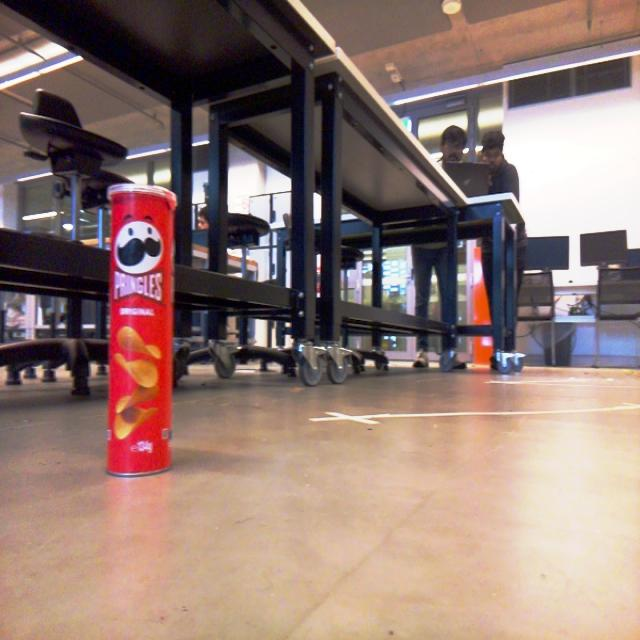redpringles: (82, 173, 200, 500)
